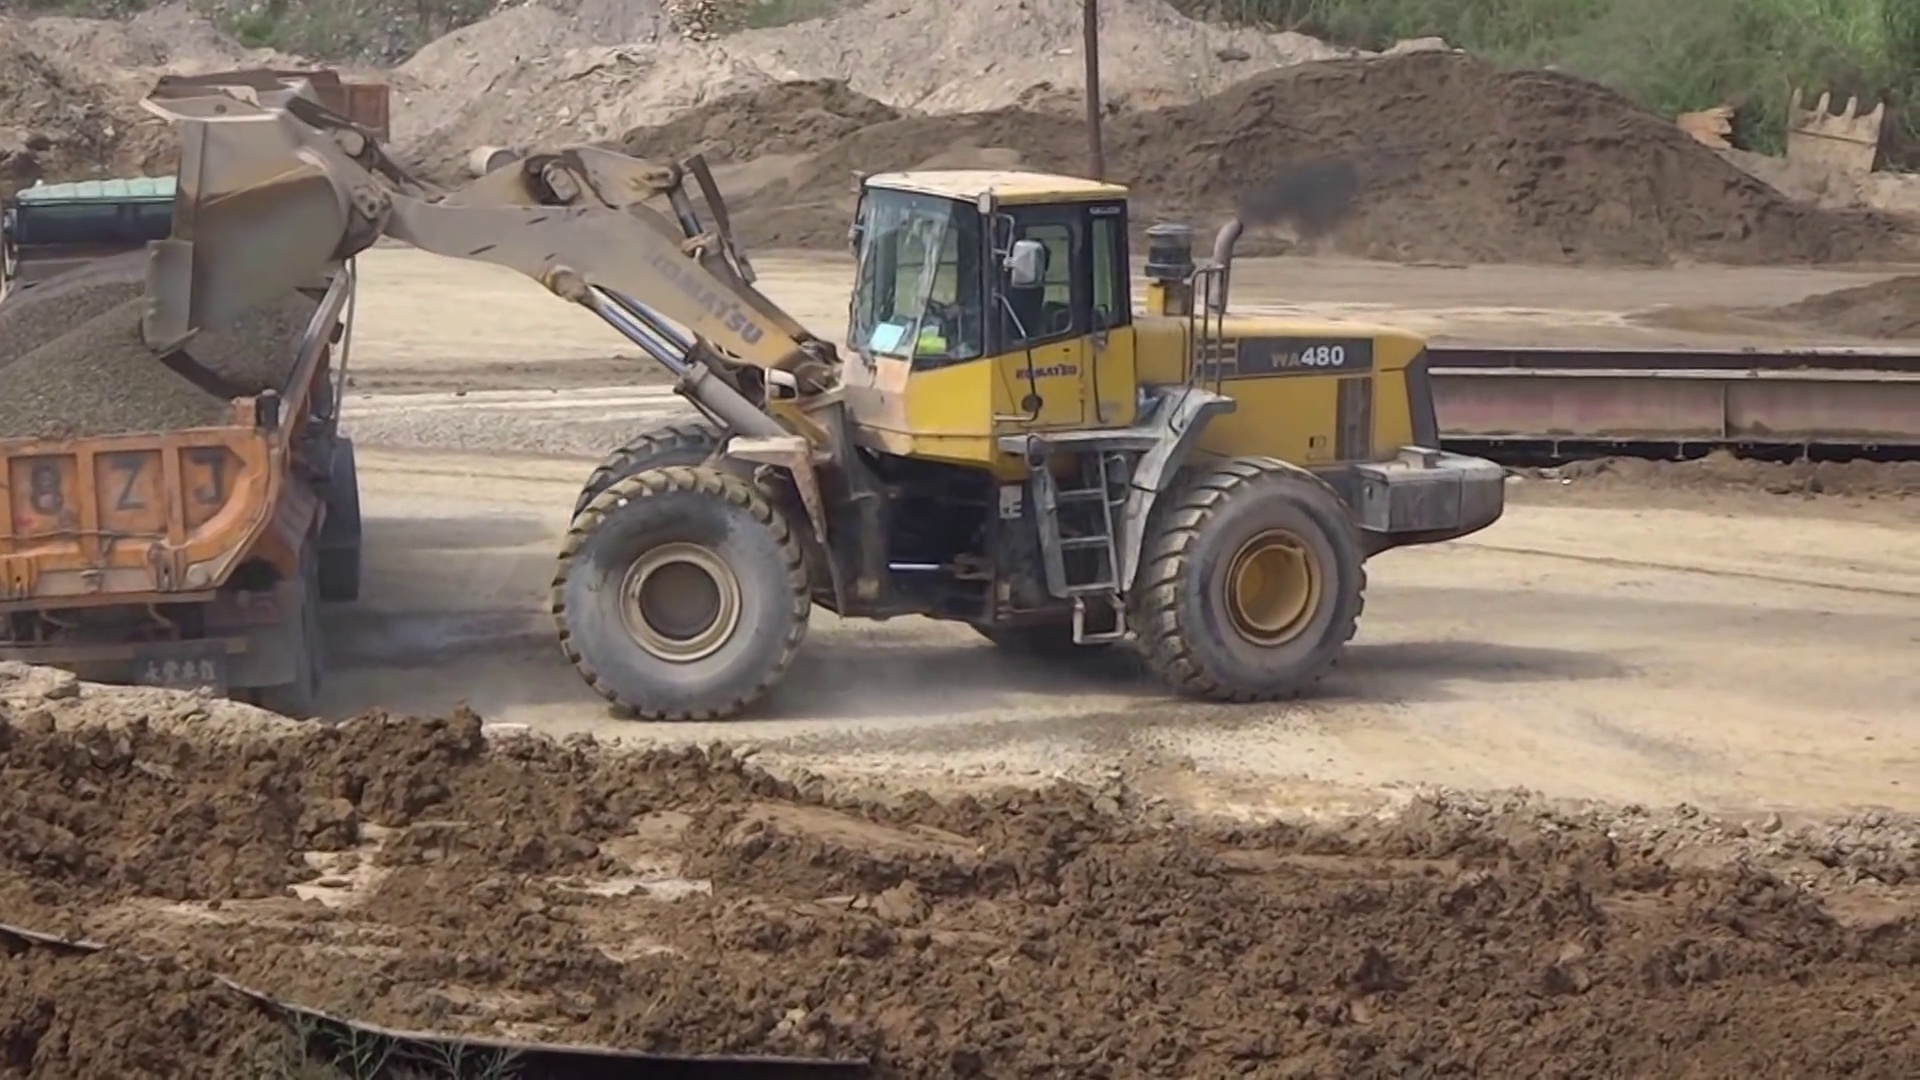truck: (7, 169, 364, 692)
wheel loader: (142, 63, 1501, 724)
